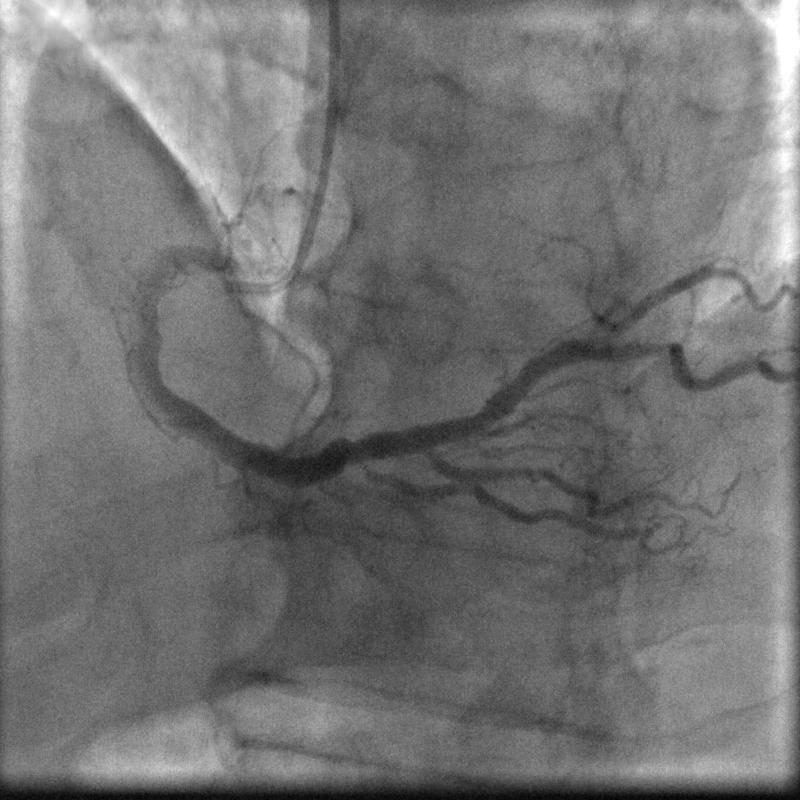Stenosis: (622, 337, 687, 361)
